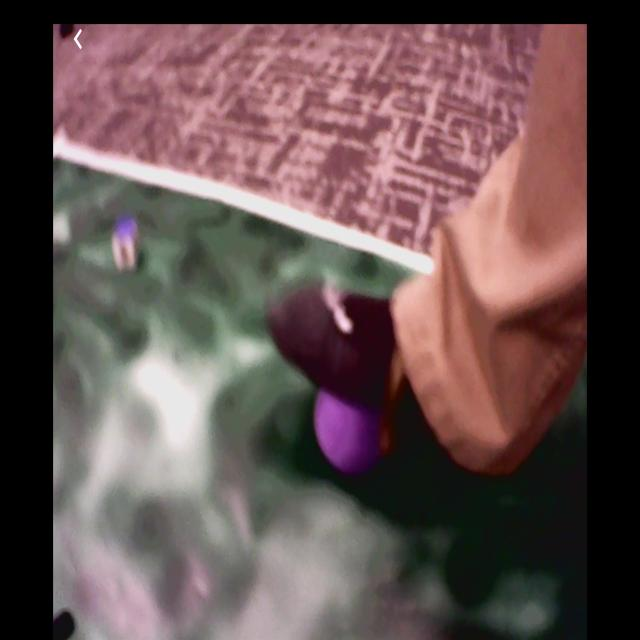ball: (316, 387, 384, 474)
